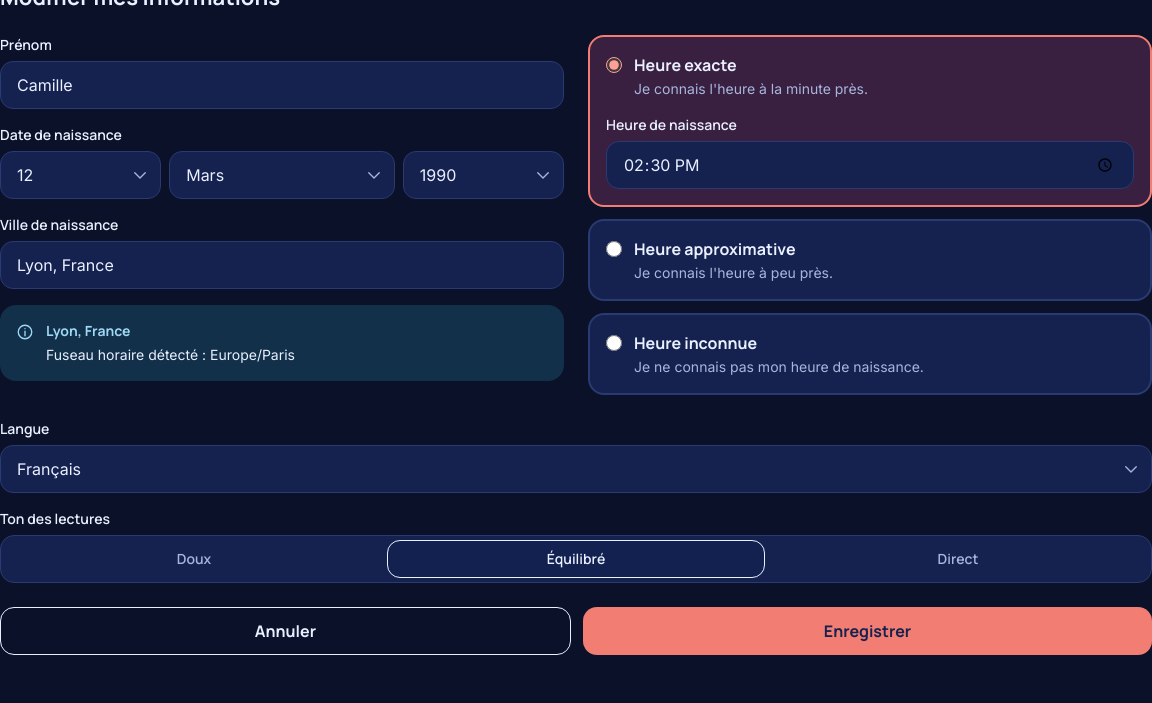
Test case: ProfileEditForm › permet de revenir sur la confirmation sans enregistrer
Select "1985" in the 3rd dropdown named "Année". click: (483, 175)
box: [403,151,564,199]
(page scrolled)
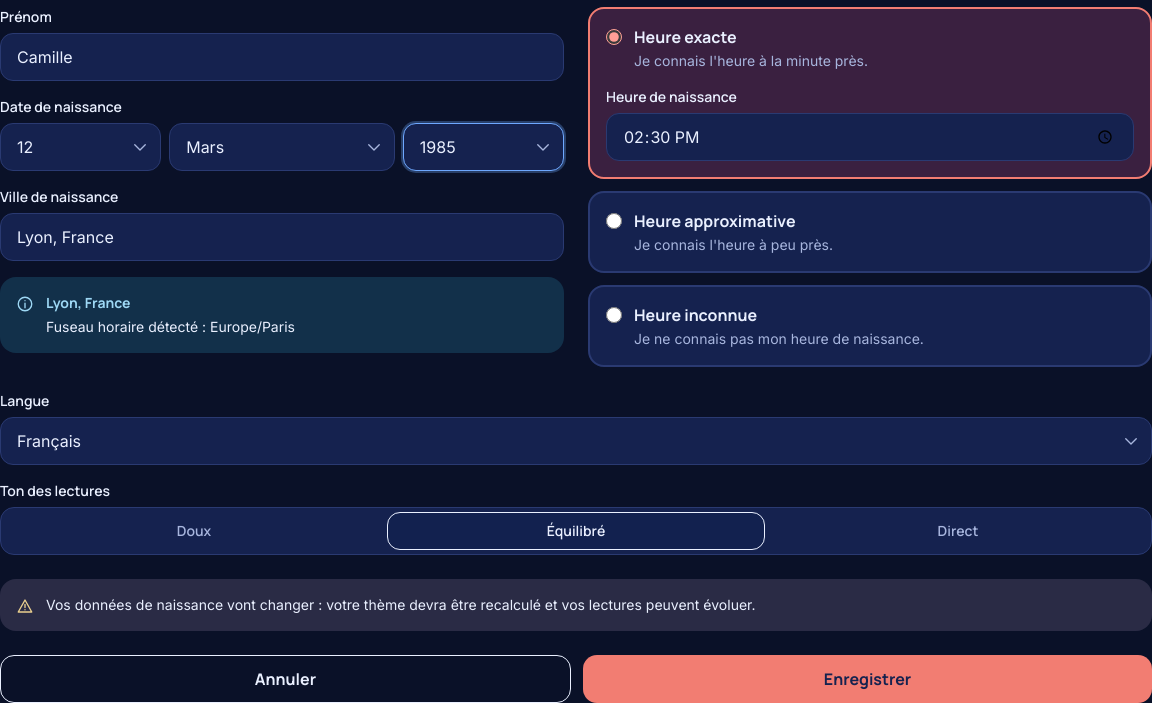
Click the button "Enregistrer". click: click(868, 679)
box: [583,655,1151,702]
(page scrolled)
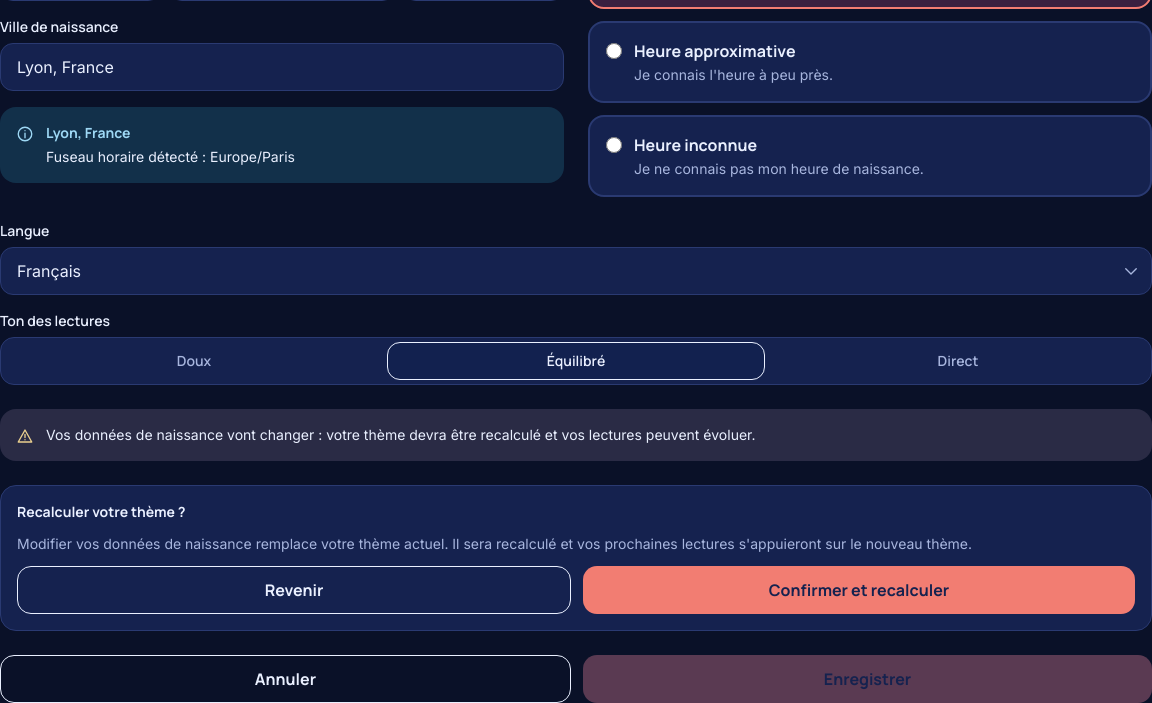
Click the button "Revenir". click: click(294, 590)
box: [17,566,571,614]
(page scrolled)
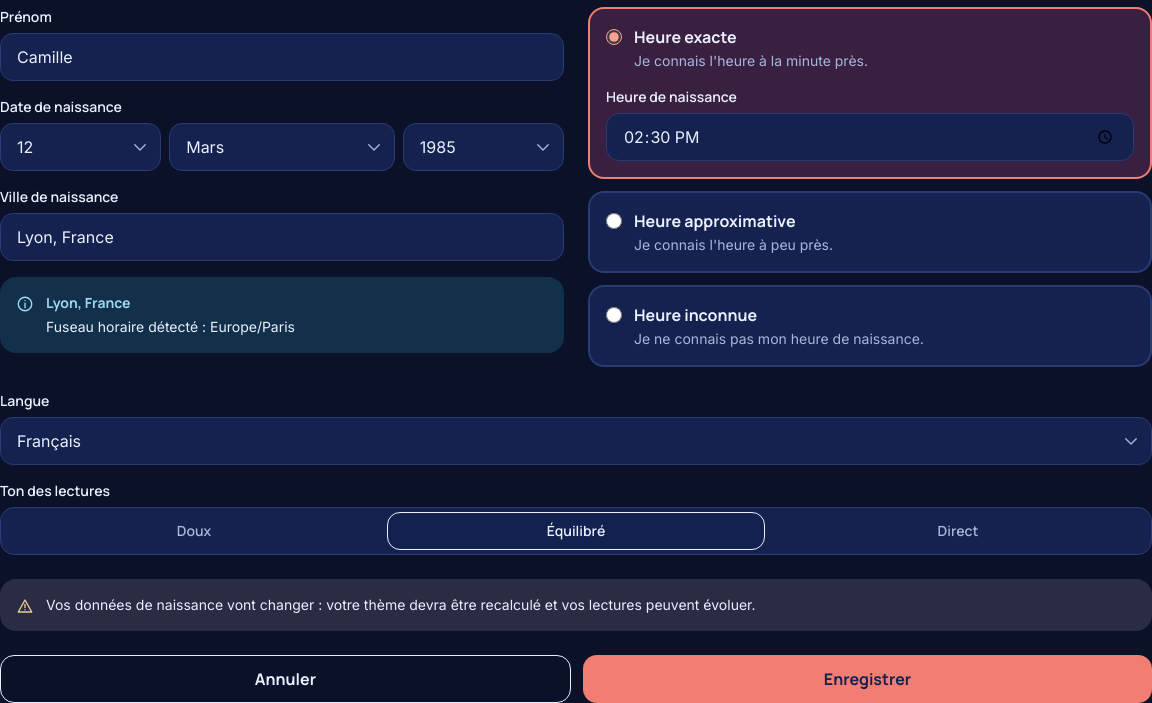
Check: the dialog is gone
